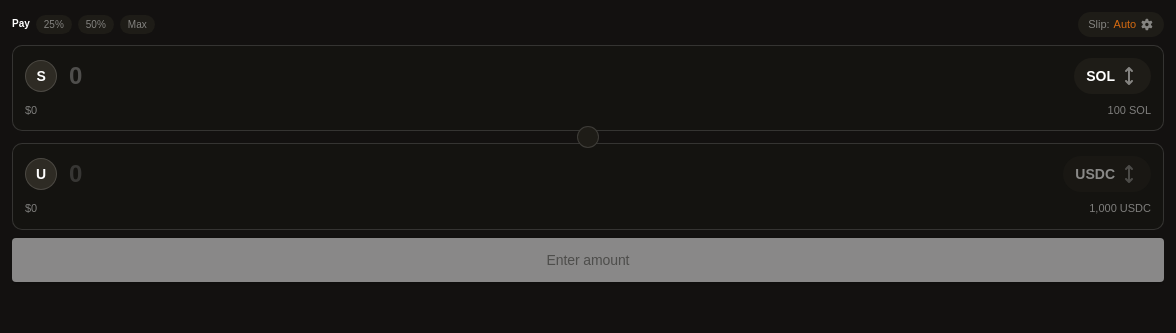
Test case: SwapWidget › Quote Expiry › should show quote info with countdown when quote has expiry
Type "10" into the field named "enter sol amount" at (566, 76), box [69, 60, 1062, 92]
Wait 500 ms
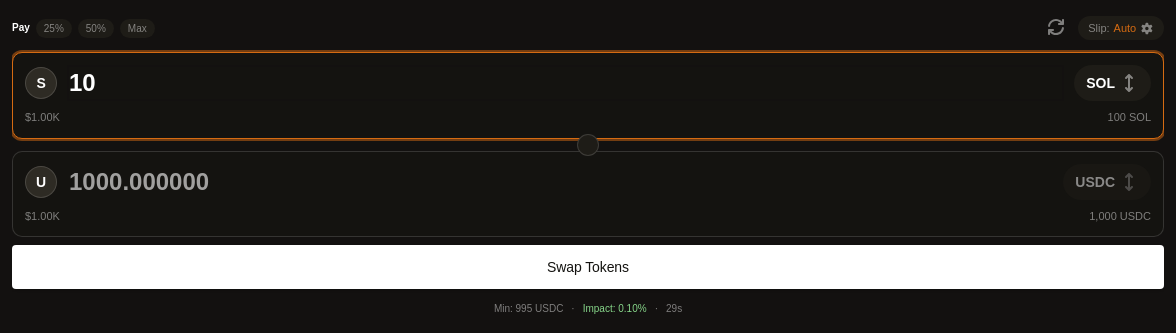
Check: the text "Min: 995 USDC" is shown, box [494, 301, 563, 316]
Check: the text "Impact: 0.10%" is shown, box [583, 301, 647, 316]
